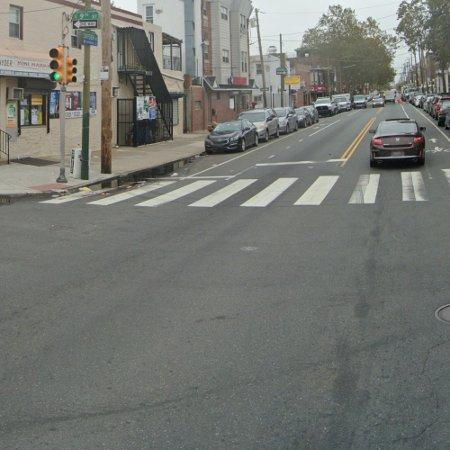crosswalks: (41, 168, 450, 207)
